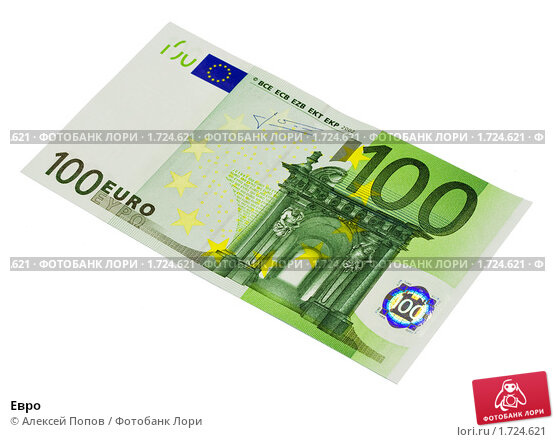cash: (20, 21, 534, 383)
